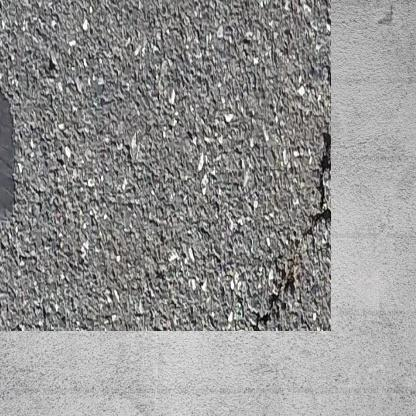Cracks: (275, 119, 306, 223), (223, 269, 259, 306)
